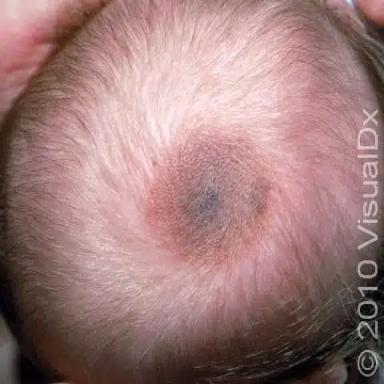nevus: (147, 128, 271, 268)
